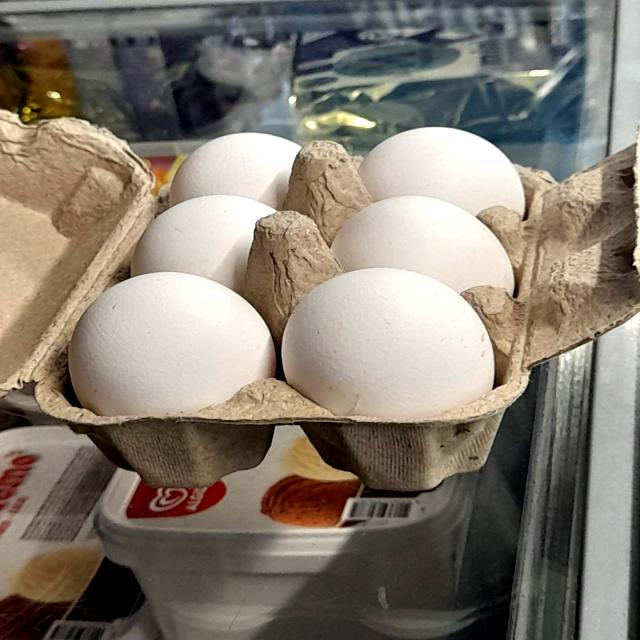egg: (272, 260, 509, 452), (47, 267, 285, 445)
